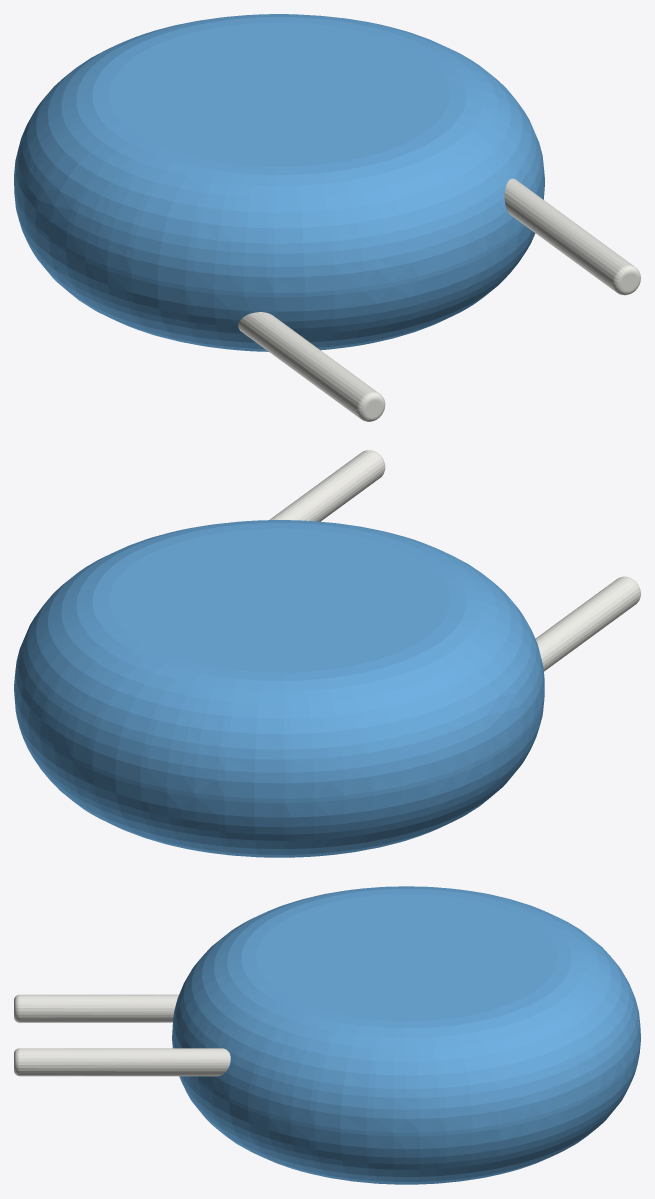
File: RV_Disc_D9mm_W3.3mm_P5mm.glb
3 views of the same model, one above another, from view 1: azimuth 30°, elevation 25°; view 2: azimuth 150°, elevation 25°; view 3: azimuth 270°, elevation 25° (orthographic). The views are drawn at different scales.
Parts seen in each view (by area): view 1: Shape_IndexedFaceSet.001, Shape_IndexedFaceSet.003, Shape_IndexedFaceSet.002, Shape_IndexedFaceSet.006, Shape_IndexedFaceSet.004, Shape_IndexedFaceSet; view 2: Shape_IndexedFaceSet.001, Shape_IndexedFaceSet.003, Shape_IndexedFaceSet.002, Shape_IndexedFaceSet.006, Shape_IndexedFaceSet.004, Shape_IndexedFaceSet; view 3: Shape_IndexedFaceSet.001, Shape_IndexedFaceSet.003, Shape_IndexedFaceSet.002, Shape_IndexedFaceSet.004, Shape_IndexedFaceSet.006, Shape_IndexedFaceSet.
Boxes of the visible parts, box(x1,y1,x2,y2) form: Shape_IndexedFaceSet.001: box(14, 14, 544, 292); Shape_IndexedFaceSet.003: box(109, 22, 449, 166); Shape_IndexedFaceSet.002: box(14, 186, 544, 351); Shape_IndexedFaceSet.006: box(238, 312, 377, 417); Shape_IndexedFaceSet.004: box(504, 178, 634, 291); Shape_IndexedFaceSet: box(14, 182, 544, 297); Shape_IndexedFaceSet.001: box(14, 520, 544, 798); Shape_IndexedFaceSet.003: box(109, 528, 449, 672); Shape_IndexedFaceSet.002: box(14, 691, 544, 857); Shape_IndexedFaceSet.006: box(535, 577, 639, 671); Shape_IndexedFaceSet.004: box(269, 450, 384, 521); Shape_IndexedFaceSet: box(14, 687, 544, 803); Shape_IndexedFaceSet.001: box(172, 886, 640, 1132); Shape_IndexedFaceSet.003: box(256, 894, 556, 1021); Shape_IndexedFaceSet.002: box(172, 1040, 640, 1184); Shape_IndexedFaceSet.004: box(19, 1048, 230, 1076); Shape_IndexedFaceSet.006: box(19, 994, 178, 1022); Shape_IndexedFaceSet: box(172, 1037, 640, 1136).
Size of the model in its own units: 3.54 by 1.3 by 4.73.
